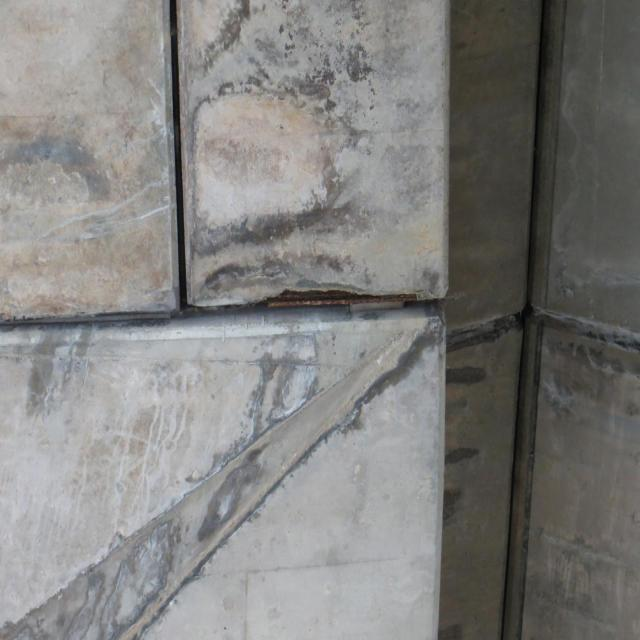Rebar: (255, 287, 417, 308)
